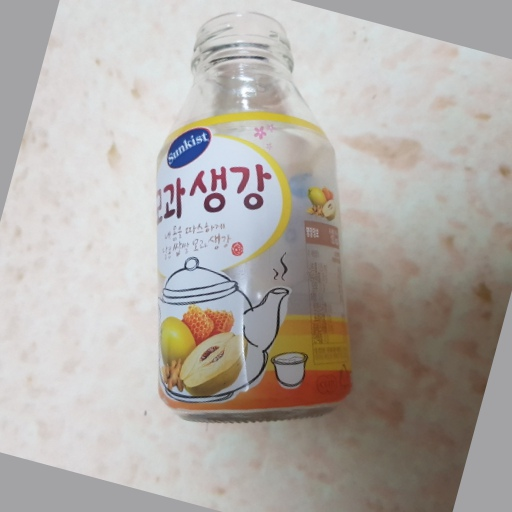Glass_4: (141, 11, 352, 425)
